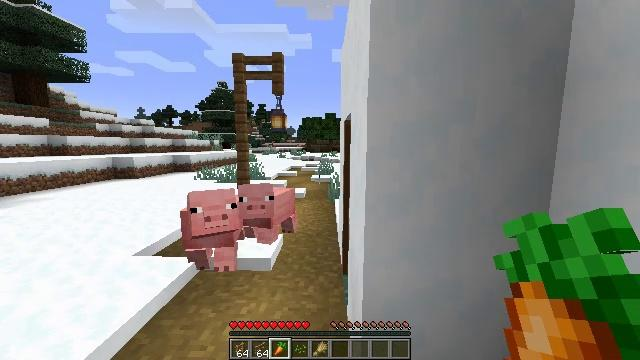pig: (179, 190, 244, 273), (239, 182, 297, 244)
